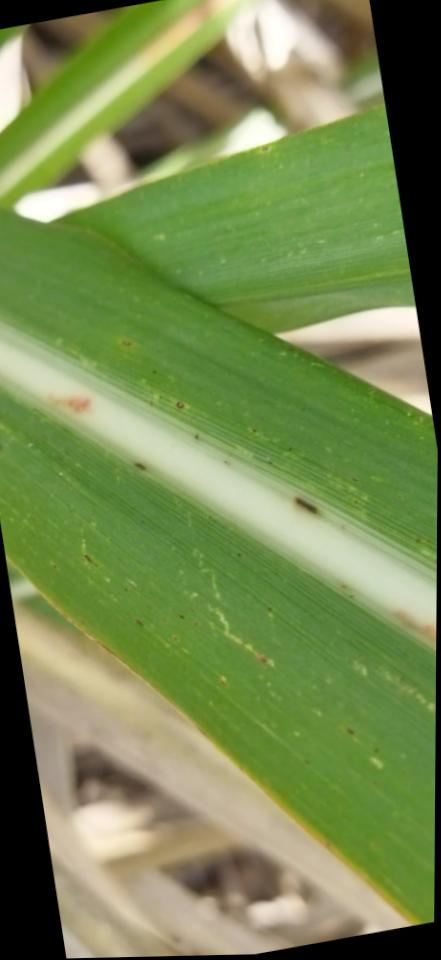RedRot: (385, 601, 436, 642), (43, 393, 95, 414)
Rust: (185, 420, 364, 486), (39, 546, 140, 609), (123, 596, 213, 657), (331, 715, 400, 775), (333, 488, 411, 537), (148, 363, 191, 417), (336, 567, 360, 606), (252, 646, 284, 675), (288, 495, 325, 516), (125, 456, 150, 482), (115, 331, 138, 357), (407, 530, 434, 550), (229, 544, 251, 565), (258, 601, 278, 622), (0, 307, 10, 333), (0, 436, 5, 460)
